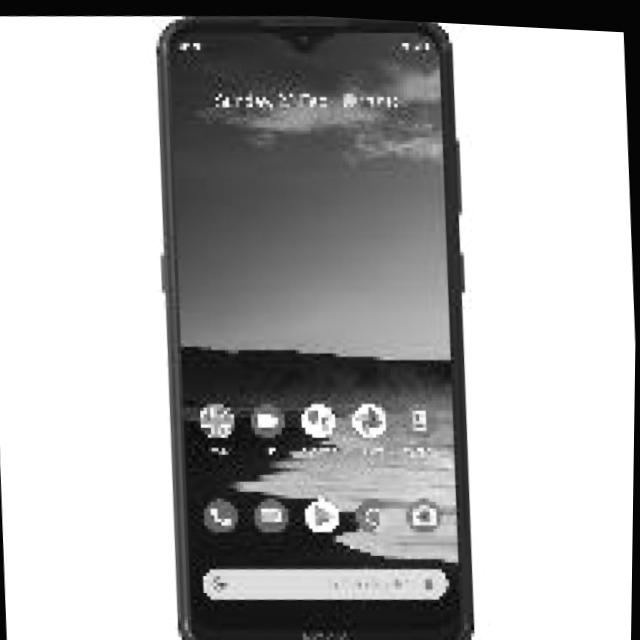Smartphone: (152, 6, 481, 640)
